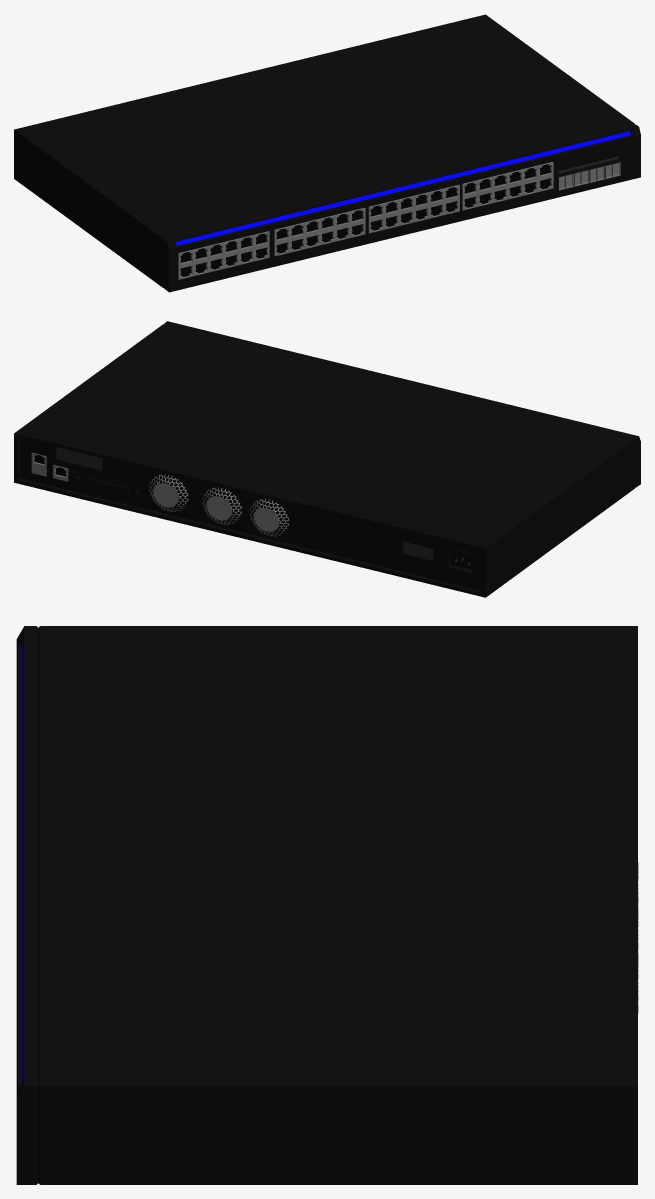
File: Juniper_EX2200.fbx
The picture shows the model from 3 angles, top to bottom: view 1: azimuth 30°, elevation 25°; view 2: azimuth 150°, elevation 25°; view 3: azimuth 270°, elevation 25°; orthographic projection. The views are drawn at different scales.
Visible parts, largest first — view 1: Juniper_EX2200; view 2: Juniper_EX2200; view 3: Juniper_EX2200.
Boxes of the visible parts, left/top/right/bottom form: Juniper_EX2200: left=14, top=14, right=640, bottom=292; Juniper_EX2200: left=14, top=321, right=640, bottom=597; Juniper_EX2200: left=16, top=626, right=638, bottom=1184.
Bounding box in the file's own units: 446 × 44.5 × 254.
9 materials, 1 textured.
